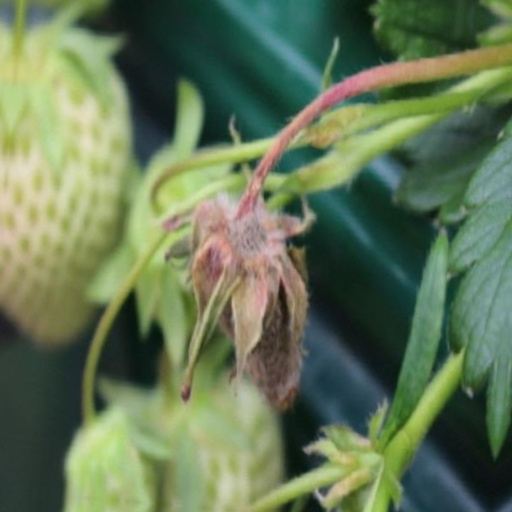Gray Mold: (196, 147, 355, 414)
